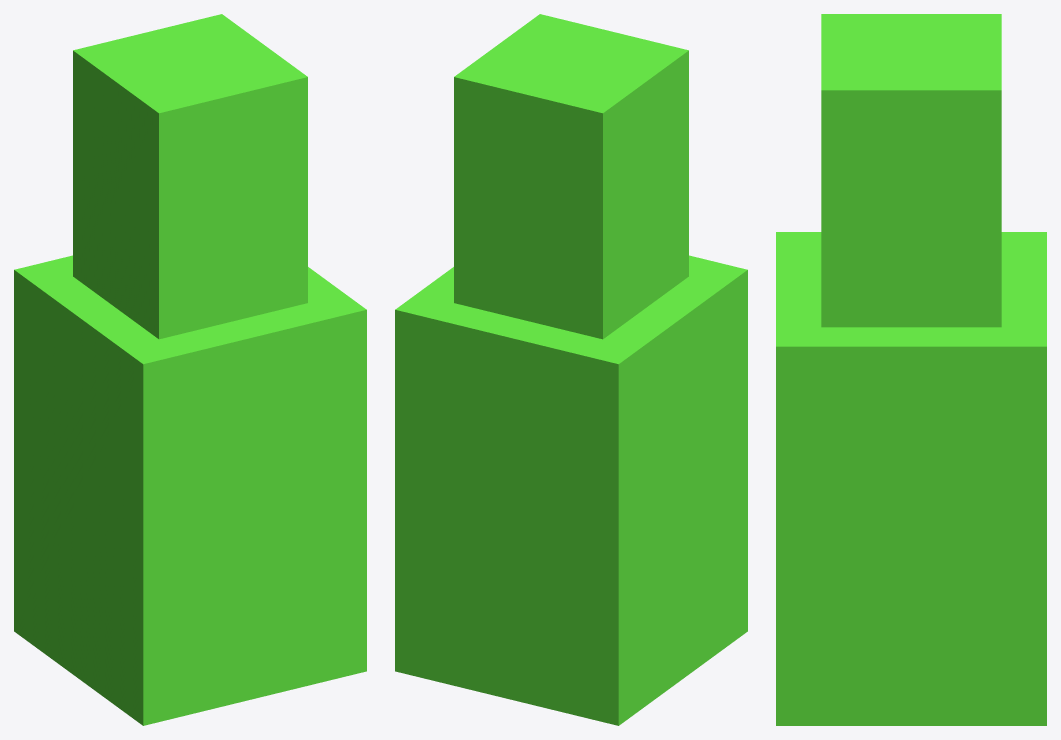
File: trees_6_dark.fbx
The picture shows the model from 3 angles, left to right: view 1: azimuth 30°, elevation 25°; view 2: azimuth 150°, elevation 25°; view 3: azimuth 270°, elevation 25°; orthographic projection. The views are drawn at different scales.
Visible parts, largest first — view 1: Cube.059; view 2: Cube.059; view 3: Cube.059.
Part boxes in pixels (bbox=[...]): Cube.059: bbox=[14, 14, 366, 725]; Cube.059: bbox=[395, 14, 747, 725]; Cube.059: bbox=[776, 14, 1046, 725].
Size of the model in its own units: 517 by 1300 by 517.
1 material, 1 textured.
